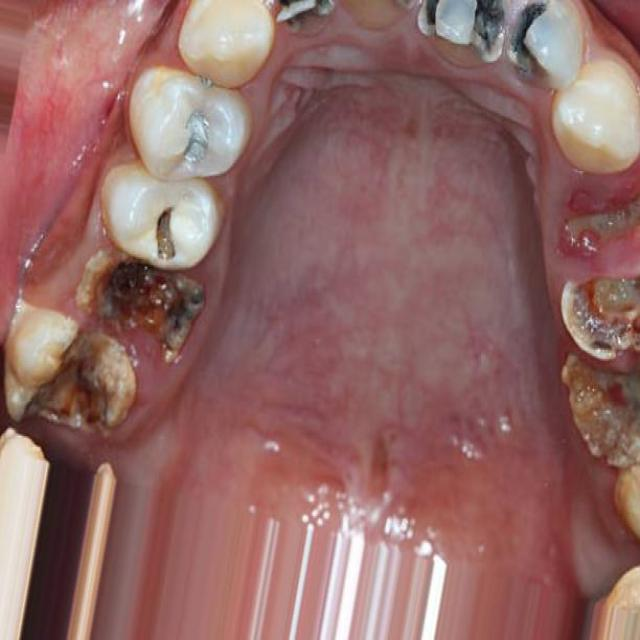caries: (15, 309, 138, 434), (73, 252, 211, 360), (559, 348, 640, 468), (560, 255, 640, 362), (553, 166, 640, 264), (148, 84, 235, 172), (494, 1, 579, 87), (121, 179, 212, 257), (423, 0, 510, 62), (246, 0, 352, 27)
